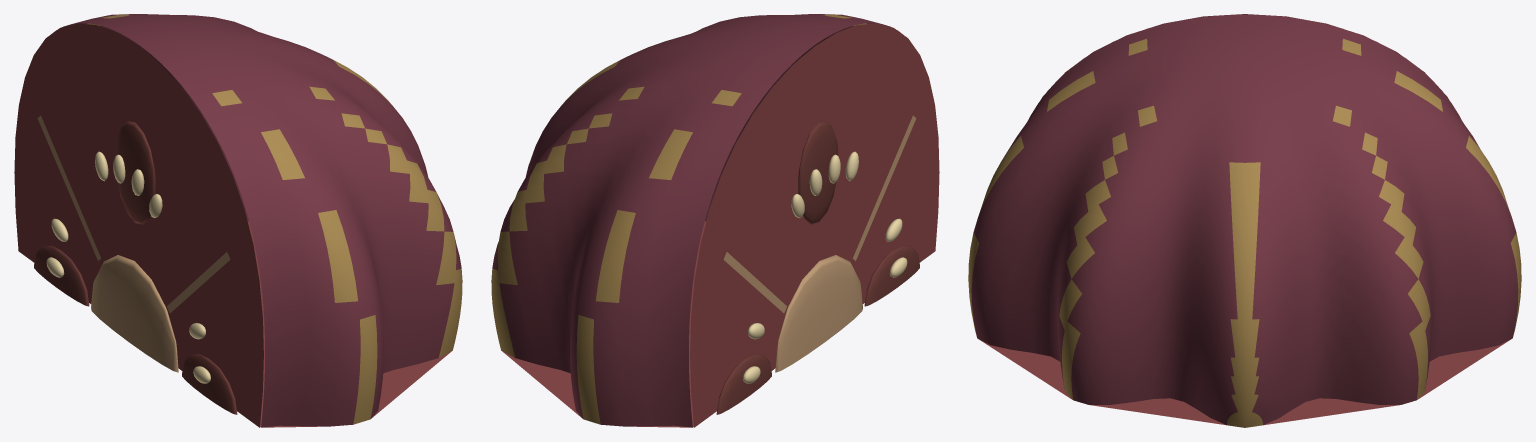
Rendered from event_jackpot_wedge.glb.
3 renders of one model, left to right at view 1: azimuth 30°, elevation 25°; view 2: azimuth 150°, elevation 25°; view 3: azimuth 270°, elevation 25°, orthographic. The views are drawn at different scales.
Parts seen in each view (by area): view 1: Jackpot Jackpot garnet heart skin / Fine antique-gold rib se, Jackpot Jackpot moist garnet flesh, Jackpot Champagne pith and septa / Jackpot moist garnet fles, Jackpot Four deep wine seed chambers / Jackpot moist garnet , Jackpot Four deep wine seed chambers, Jackpot Pale golden archive seeds, Jackpot Champagne pith and septa; view 2: Jackpot Jackpot garnet heart skin / Fine antique-gold rib se, Jackpot Jackpot moist garnet flesh, Jackpot Champagne pith and septa / Jackpot moist garnet fles, Jackpot Four deep wine seed chambers / Jackpot moist garnet , Jackpot Four deep wine seed chambers, Jackpot Pale golden archive seeds, Jackpot Champagne pith and septa; view 3: Jackpot Jackpot garnet heart skin / Fine antique-gold rib se.
Part boxes in pixels (bbox=[...]): Jackpot Jackpot garnet heart skin / Fine antique-gold rib se: bbox=[53, 14, 462, 427]; Jackpot Jackpot moist garnet flesh: bbox=[14, 23, 263, 427]; Jackpot Champagne pith and septa / Jackpot moist garnet fles: bbox=[91, 255, 178, 372]; Jackpot Four deep wine seed chambers / Jackpot moist garnet : bbox=[34, 245, 237, 414]; Jackpot Four deep wine seed chambers: bbox=[115, 121, 155, 224]; Jackpot Pale golden archive seeds: bbox=[46, 151, 210, 383]; Jackpot Champagne pith and septa: bbox=[37, 115, 230, 313]; Jackpot Jackpot garnet heart skin / Fine antique-gold rib se: bbox=[491, 14, 900, 427]; Jackpot Jackpot moist garnet flesh: bbox=[690, 23, 939, 427]; Jackpot Champagne pith and septa / Jackpot moist garnet fles: bbox=[775, 255, 862, 372]; Jackpot Four deep wine seed chambers / Jackpot moist garnet : bbox=[716, 245, 919, 414]; Jackpot Four deep wine seed chambers: bbox=[798, 121, 838, 224]; Jackpot Pale golden archive seeds: bbox=[743, 151, 907, 383]; Jackpot Champagne pith and septa: bbox=[723, 115, 916, 313]; Jackpot Jackpot garnet heart skin / Fine antique-gold rib se: bbox=[968, 14, 1521, 427].
Size of the model in its own units: 0.7613 by 0.7 by 1.25.
